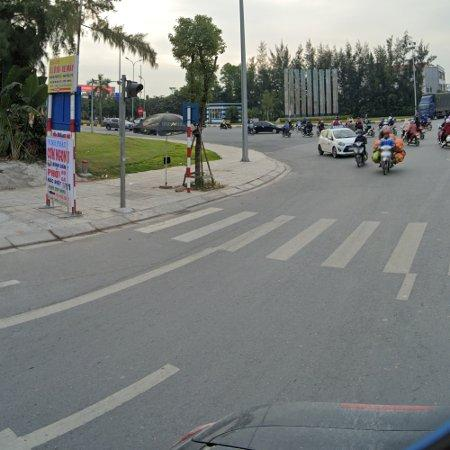crosswalks: (133, 204, 428, 273)
